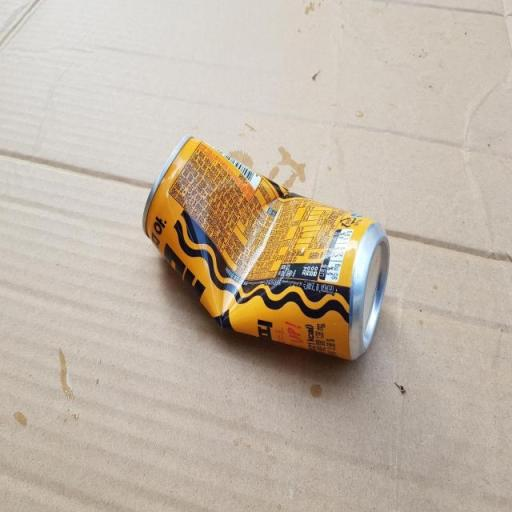metal: (120, 114, 395, 375)
